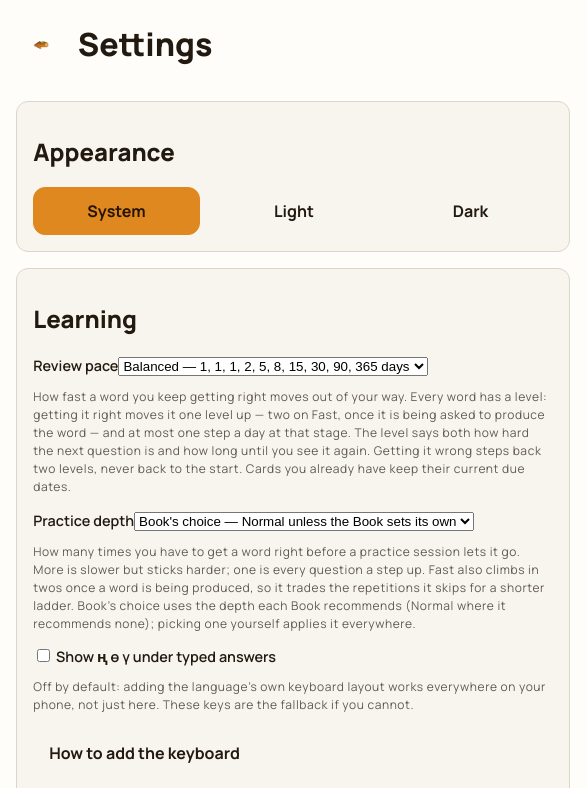
it: Settings: the keyboard rows › re-opens the walkthrough a session dismissed
The width and height of the screenshot is (587, 788).
Expected: the text "Typing ң ө ү" is not shown
Click the button "How to add the keyboard". click: (144, 753)
box: [33,726,553,780]
(page scrolled)
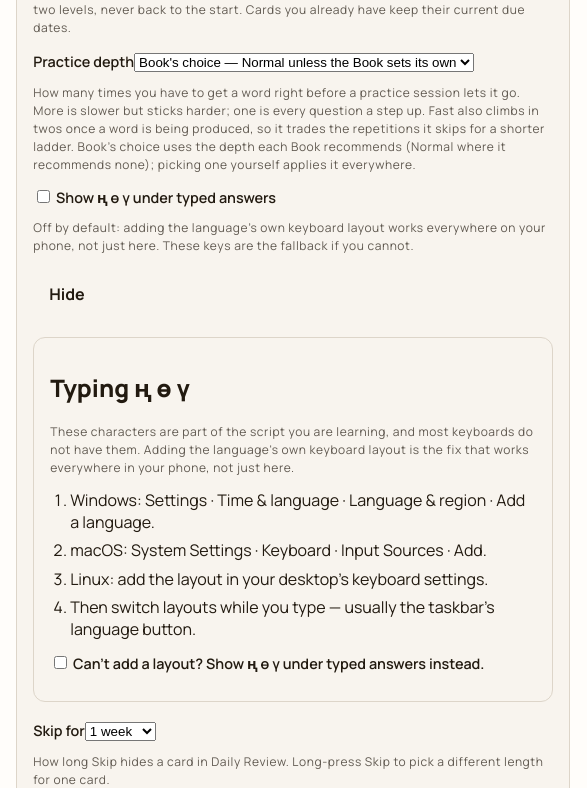
Expected: the heading "Typing ң ө ү" is shown, [50,371,190,404]
